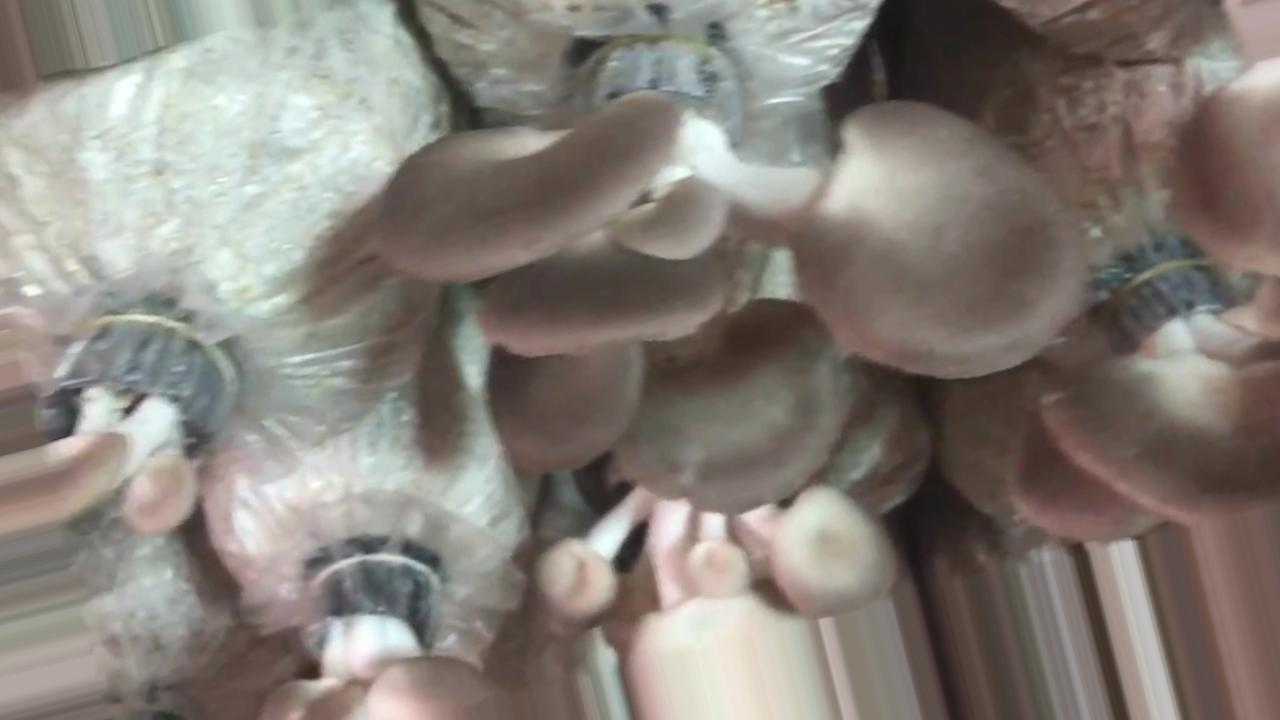nam: (374, 30, 1085, 509), (542, 484, 898, 720), (1010, 266, 1280, 539), (1, 314, 220, 538), (266, 555, 509, 720), (1174, 59, 1280, 268)
